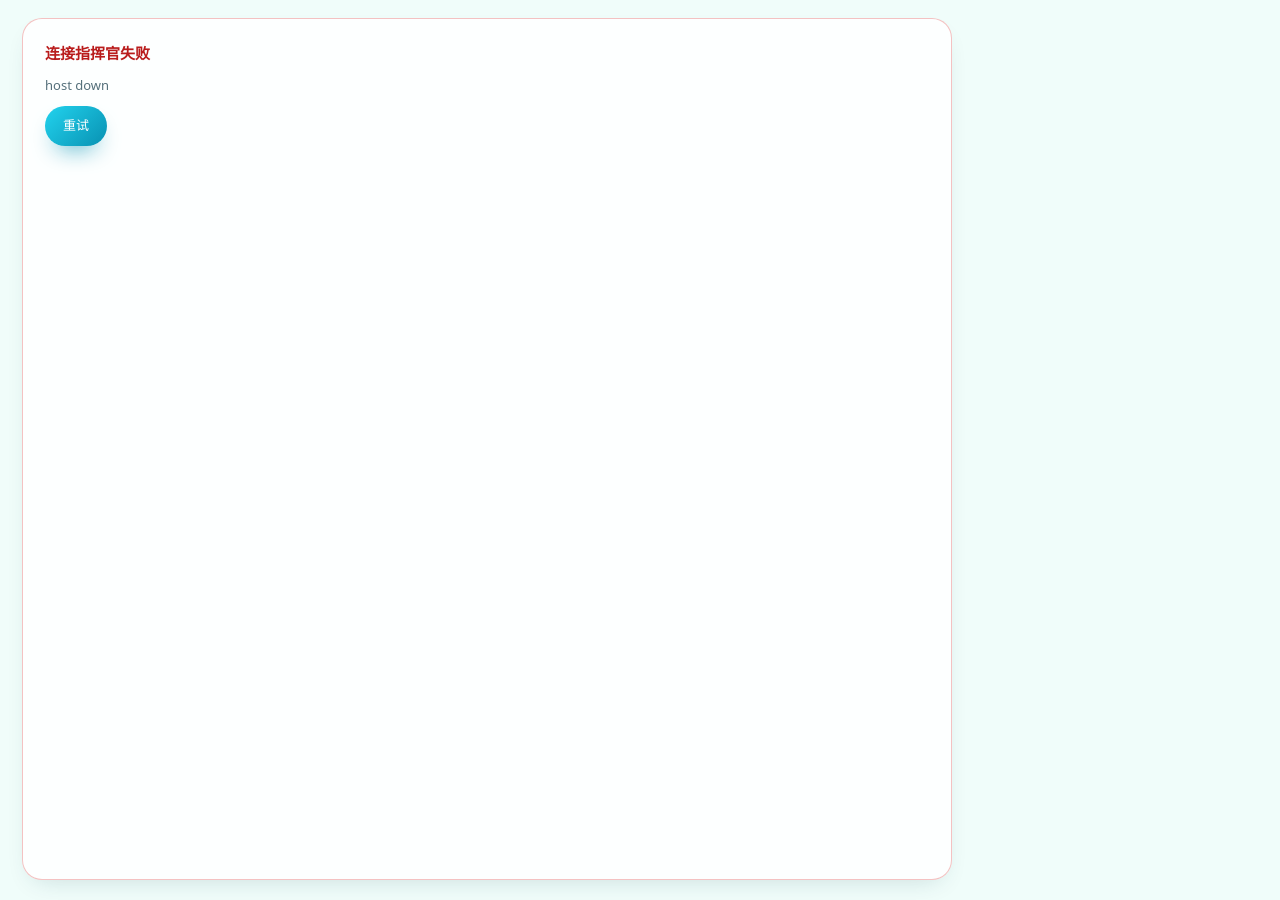
Test case: retry recovers from a transient failure
Click the button "重试": (76, 126) [45,106,107,146]
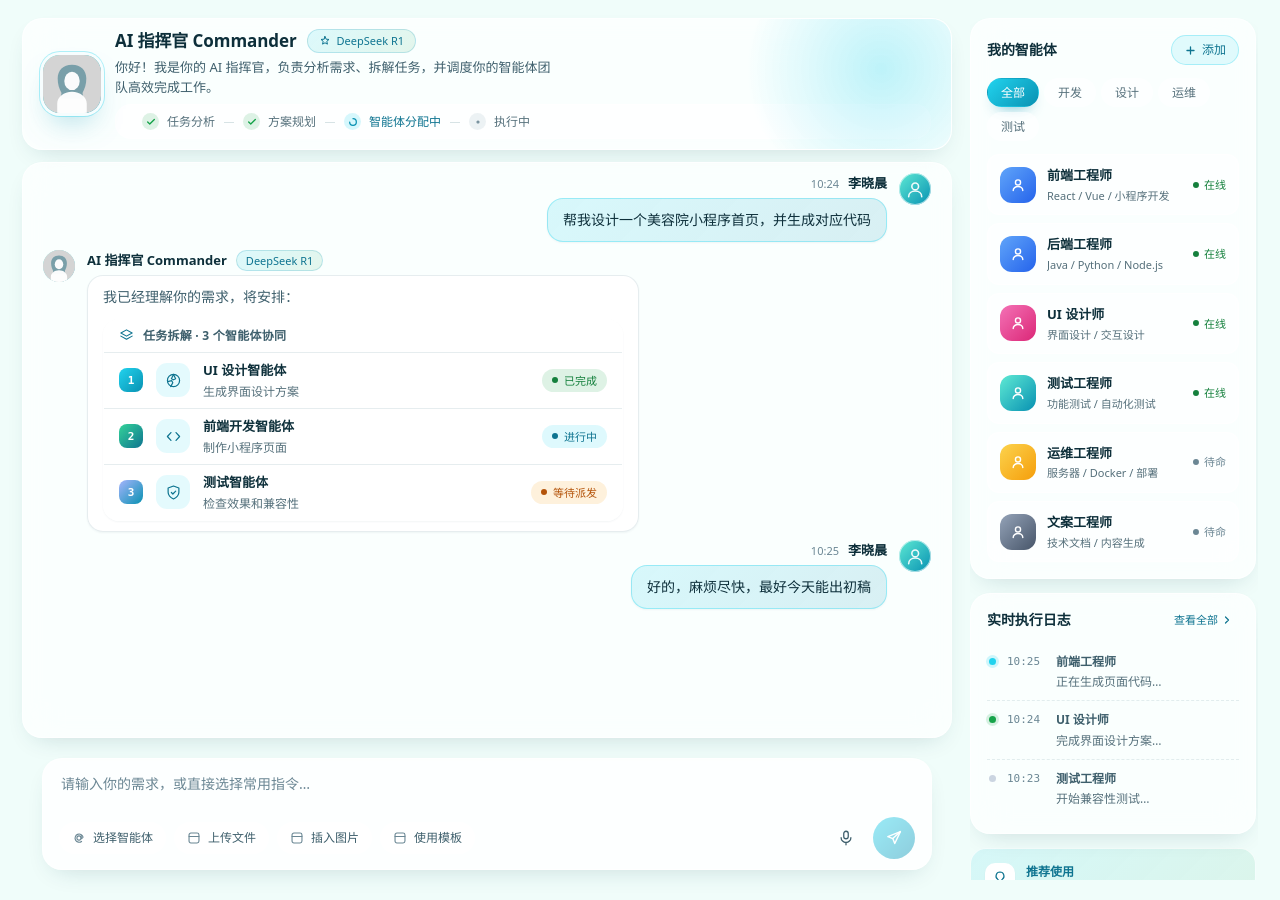
Expected: the heading "AI 指挥官 Commander" is shown, [115,30,296,52]
